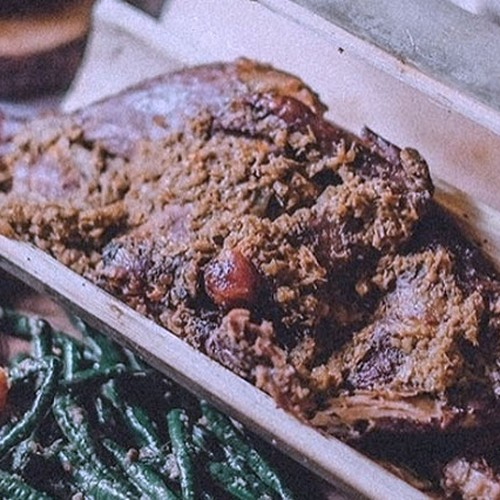bebek timbungan: (27, 51, 495, 432)
